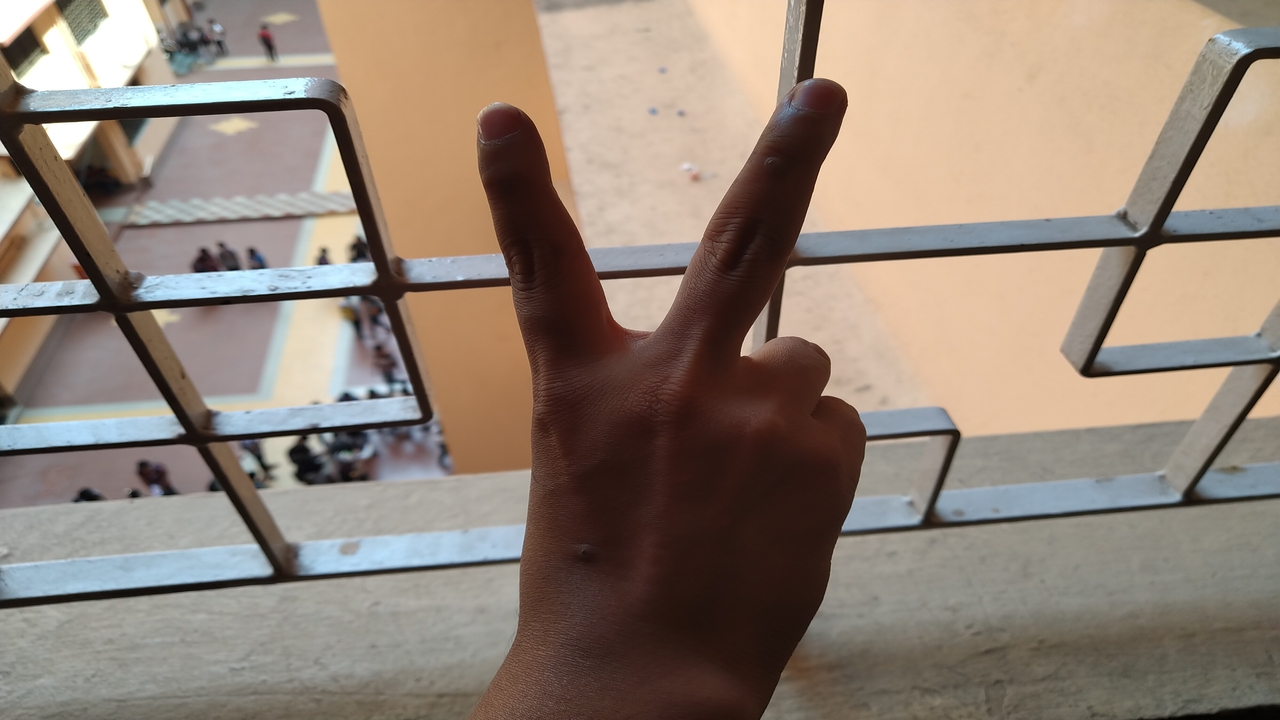fingertip: (468, 96, 538, 158), (790, 72, 852, 126)
